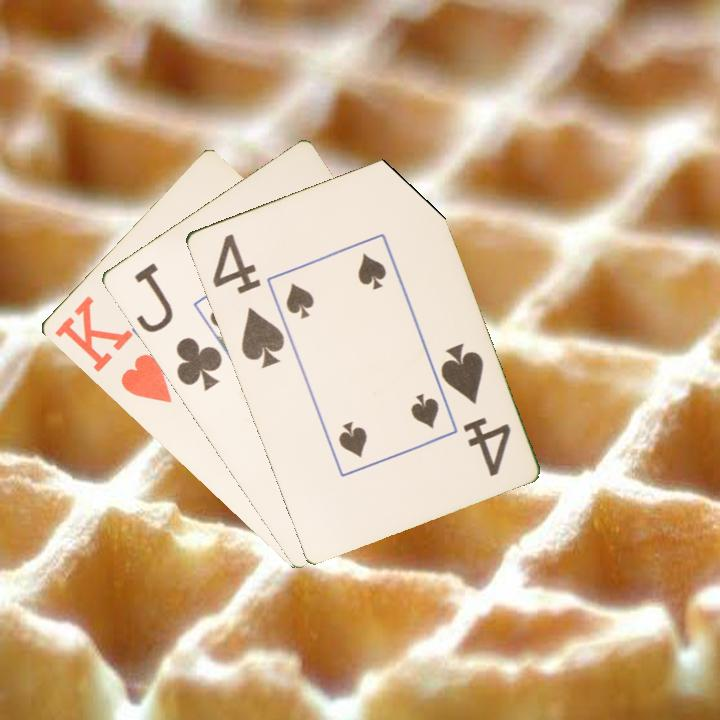4s: (208, 230, 287, 371), (436, 339, 514, 479)
Jc: (129, 259, 225, 394)
Kh: (50, 292, 175, 406)
